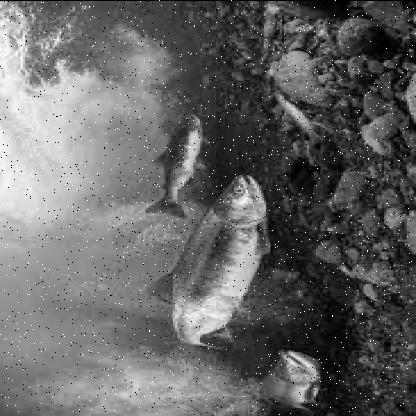fish: (142, 174, 270, 354), (142, 112, 208, 222), (252, 346, 328, 415)
